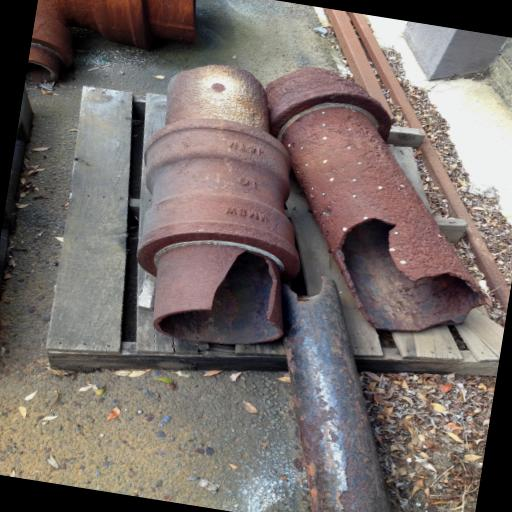segmentation: (265, 68, 483, 332), (138, 65, 299, 341), (420, 144, 510, 312), (325, 8, 422, 128), (324, 8, 392, 118), (51, 0, 195, 49), (27, 0, 73, 81), (352, 179, 356, 181)
